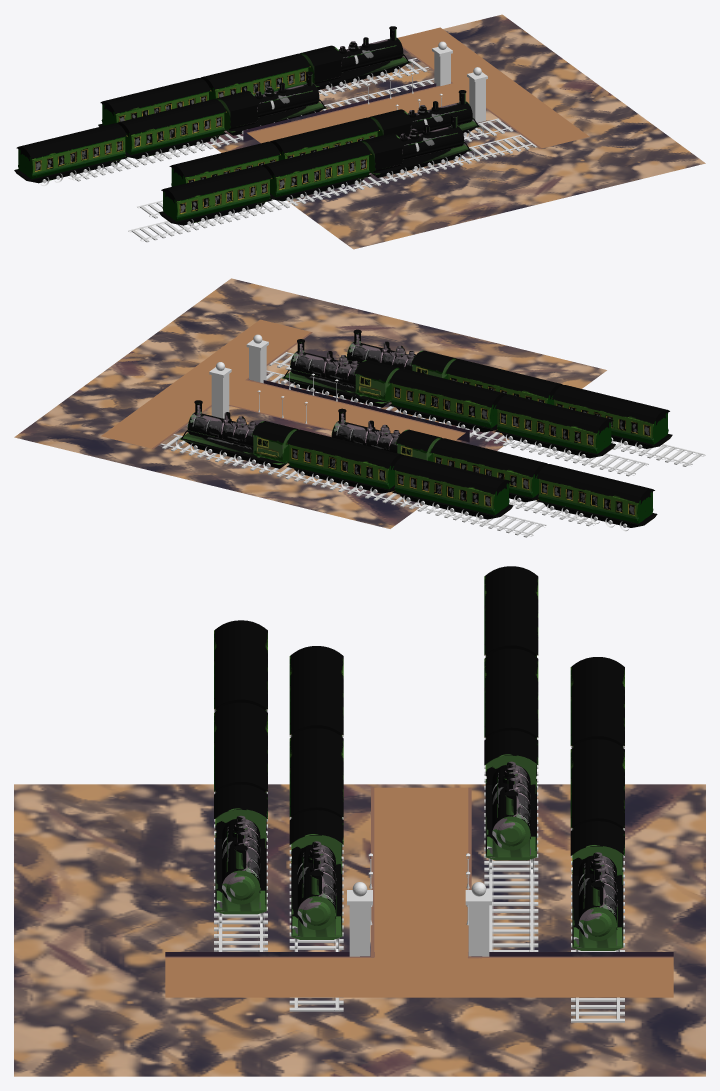
The model's file is end.glb.
The picture shows the model from 3 angles, top to bottom: view 1: azimuth 30°, elevation 25°; view 2: azimuth 150°, elevation 25°; view 3: azimuth 270°, elevation 25°; orthographic projection. The views are drawn at different scales.
Visible parts, largest first — view 1: Plane.001, Carriage-body-col.004 (×8), Engine-col.004 (×4), platform.001 (×6), track.001 (×6), platform.002 (×2), Cube, Cube.001; view 2: Plane.001, Carriage-body-col.004 (×8), Engine-col.004 (×4), platform.001 (×6), track.001 (×5), platform.002 (×2), Cube.001, Cube; view 3: Plane.001, platform.001 (×6), Carriage-body-col.004 (×8), Engine-col.004 (×4), platform.002 (×2), track.001 (×4), Cube.001, Cube.
Part boxes in pixels (<box>): Plane.001: <box>207,14,705,249</box>; Carriage-body-col.004 (×8): <box>14,53,379,225</box>; Engine-col.004 (×4): <box>216,26,480,177</box>; platform.001 (×6): <box>243,27,589,148</box>; track.001 (×6): <box>72,58,537,242</box>; platform.002 (×2): <box>446,68,531,106</box>; Cube: <box>467,67,487,122</box>; Cube.001: <box>432,41,452,86</box>; Plane.001: <box>14,278,606,528</box>; Carriage-body-col.004 (×8): <box>286,359,672,527</box>; Engine-col.004 (×4): <box>179,329,457,468</box>; platform.001 (×6): <box>101,319,469,448</box>; track.001 (×5): <box>159,419,705,537</box>; platform.002 (×2): <box>162,364,253,404</box>; Cube.001: <box>209,362,231,418</box>; Cube: <box>246,334,268,383</box>; Plane.001: <box>14,784,705,1076</box>; platform.001 (×6): <box>165,787,673,997</box>; Carriage-body-col.004 (×8): <box>214,566,624,866</box>; Engine-col.004 (×4): <box>214,730,624,950</box>; platform.002 (×2): <box>360,951,482,997</box>; track.001 (×4): <box>214,824,624,1022</box>; Cube.001: <box>465,882,491,956</box>; Cube: <box>347,882,372,956</box>.
Size of the model in its own units: 97.7 by 9.09 by 64.
9 materials, 9 textured.
